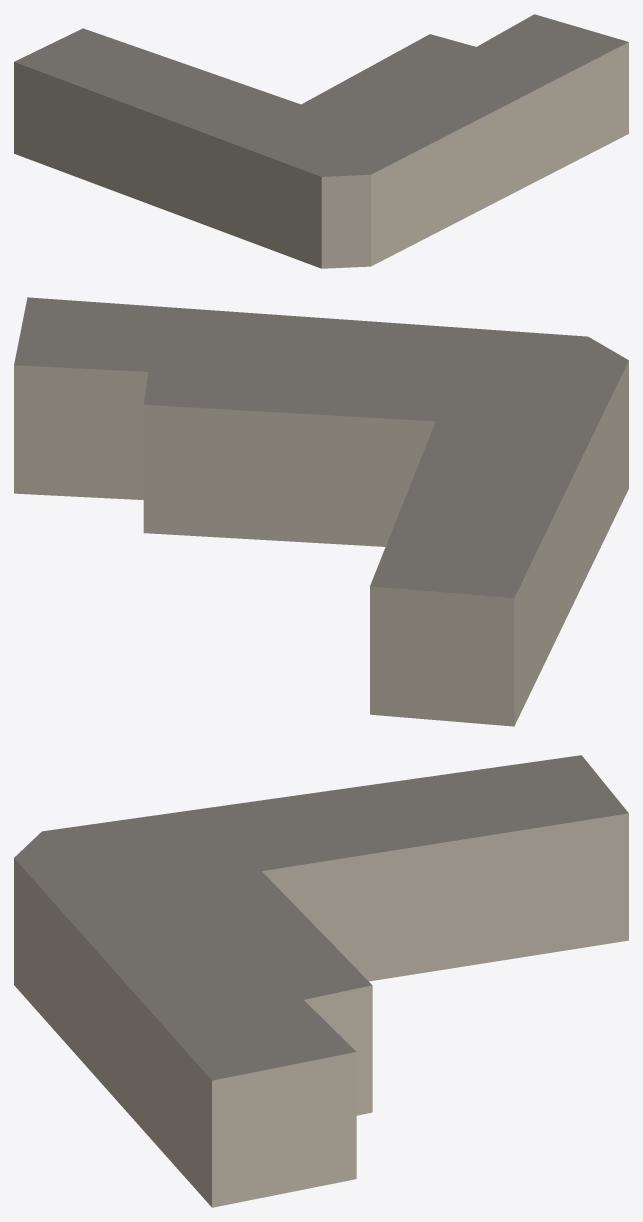
3 views of the same model, one above another, from view 1: azimuth 30°, elevation 25°; view 2: azimuth 150°, elevation 25°; view 3: azimuth 270°, elevation 25° (orthographic). The views are drawn at different scales.
Parts seen in each view (by area): view 1: HP-w380339997; view 2: HP-w380339997; view 3: HP-w380339997.
Boxes of the visible parts, x1,y1,x2,y2 form: HP-w380339997: (14, 14, 628, 268); HP-w380339997: (14, 297, 628, 726); HP-w380339997: (14, 755, 628, 1207).
Bounding box in the file's own units: 65.86 × 12 × 52.59.
